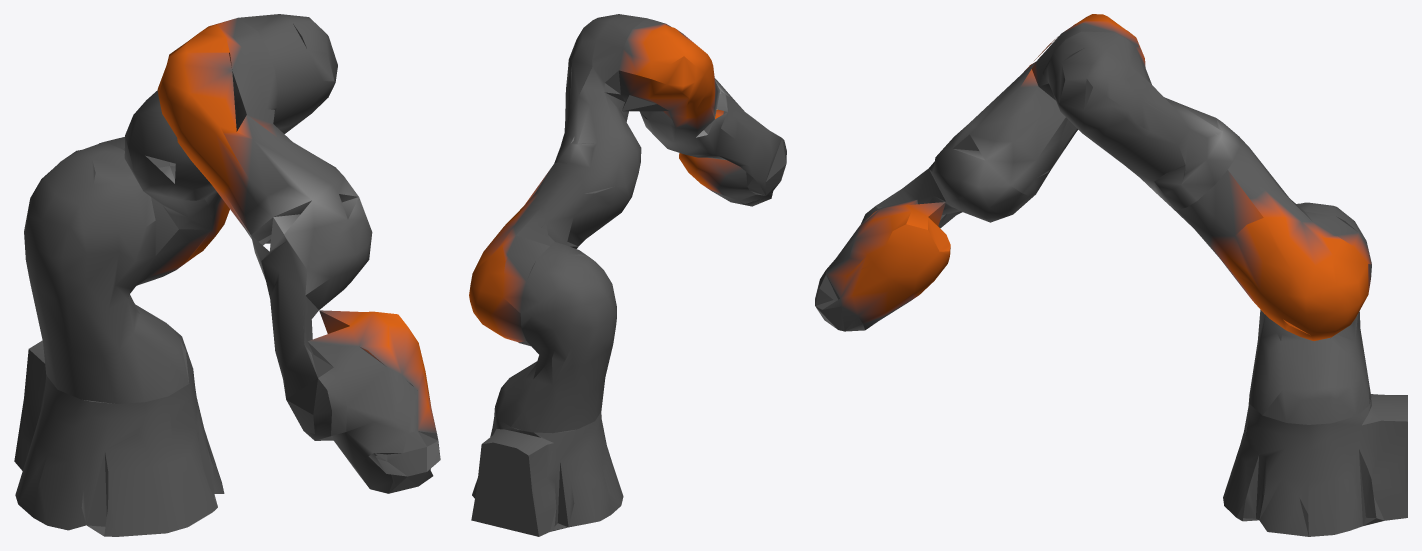
The model's file is kuka-iiwa-14.l2.glb.
3 views of the same model, side by side, from view 1: azimuth 30°, elevation 25°; view 2: azimuth 150°, elevation 25°; view 3: azimuth 270°, elevation 25° (orthographic). The views are drawn at different scales.
Parts seen in each view (by area): view 1: kuka-iiwa-14__l2; view 2: kuka-iiwa-14__l2; view 3: kuka-iiwa-14__l2.
Part boxes in pixels (x1,y1,x2,y2): kuka-iiwa-14__l2: [14, 14, 440, 536]; kuka-iiwa-14__l2: [469, 14, 786, 536]; kuka-iiwa-14__l2: [815, 14, 1407, 536].
Size of the model in its own units: 0.2479 by 0.7223 by 0.8246.
